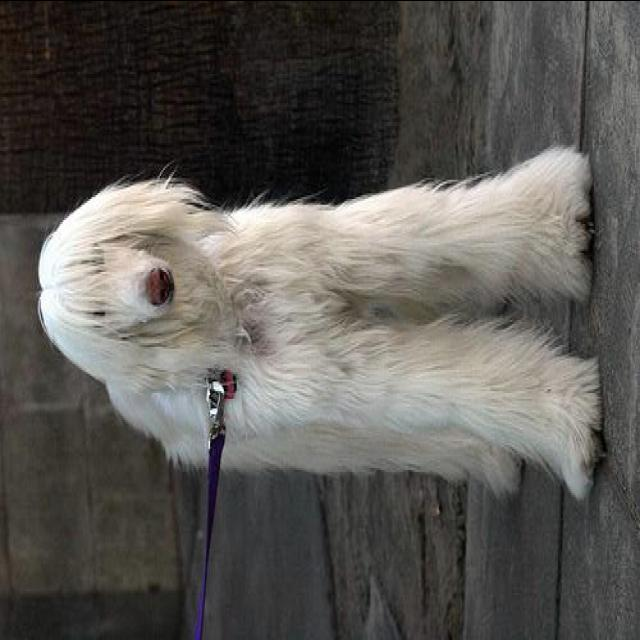afghan_hound: (33, 140, 604, 506)
